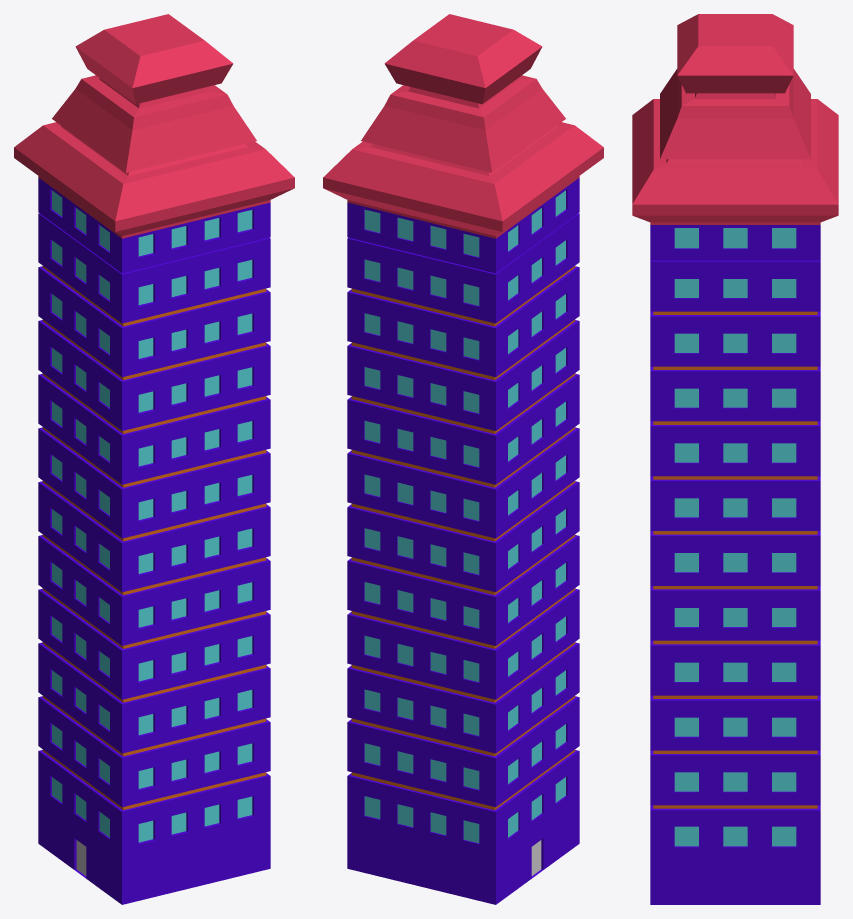
The model's file is FBX_LC_sGrandmaApt.fbx.
3 renders of one model, left to right at view 1: azimuth 30°, elevation 25°; view 2: azimuth 150°, elevation 25°; view 3: azimuth 270°, elevation 25°, orthographic. The views are drawn at different scales.
Parts seen in each view (by area): view 1: Cube.017; view 2: Cube.017; view 3: Cube.017.
Boxes of the visible parts, bbox=[...] form: Cube.017: bbox=[14, 14, 294, 904]; Cube.017: bbox=[323, 14, 603, 904]; Cube.017: bbox=[632, 14, 838, 904].
Bounding box in the file's own units: 1294 × 5651 × 1262.
